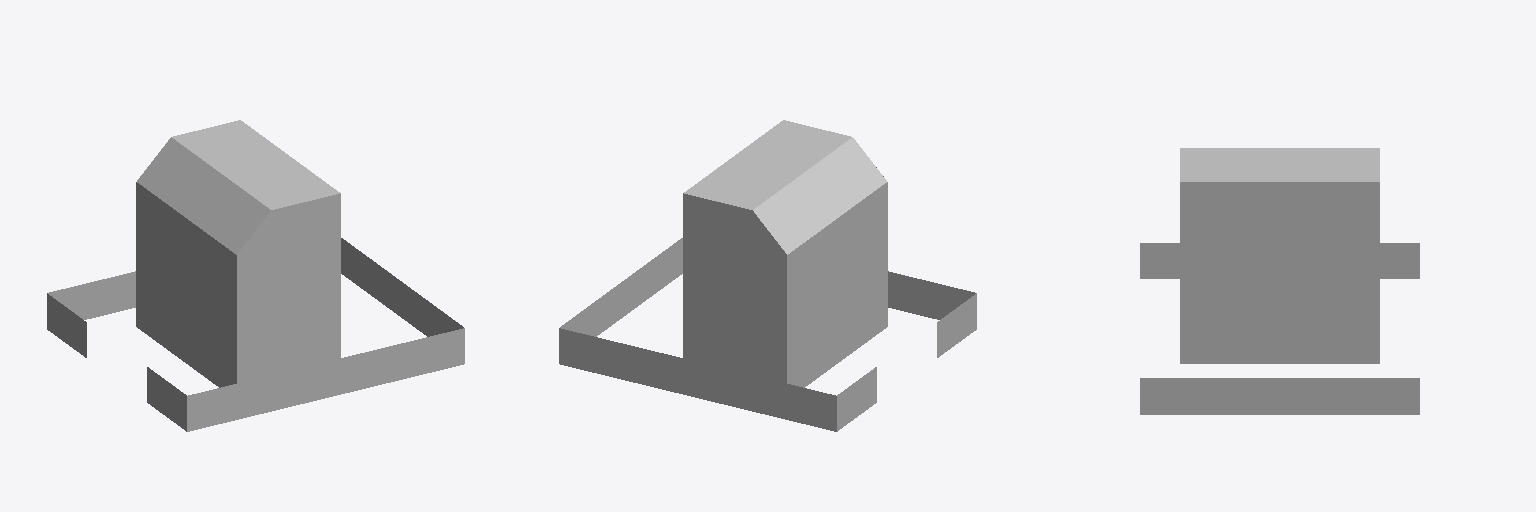
Rendered from house1.obj.
3 renders of one model, left to right at view 1: azimuth 30°, elevation 25°; view 2: azimuth 150°, elevation 25°; view 3: azimuth 270°, elevation 25°, orthographic.
Visible parts, largest first — view 1: Cube; view 2: Cube; view 3: Cube.
Part boxes in pixels (x1,y1,x2,y2): Cube: (47, 120, 464, 431); Cube: (559, 120, 976, 431); Cube: (1140, 148, 1419, 414).
Size of the model in its own units: 4 by 2.5 by 3.5.